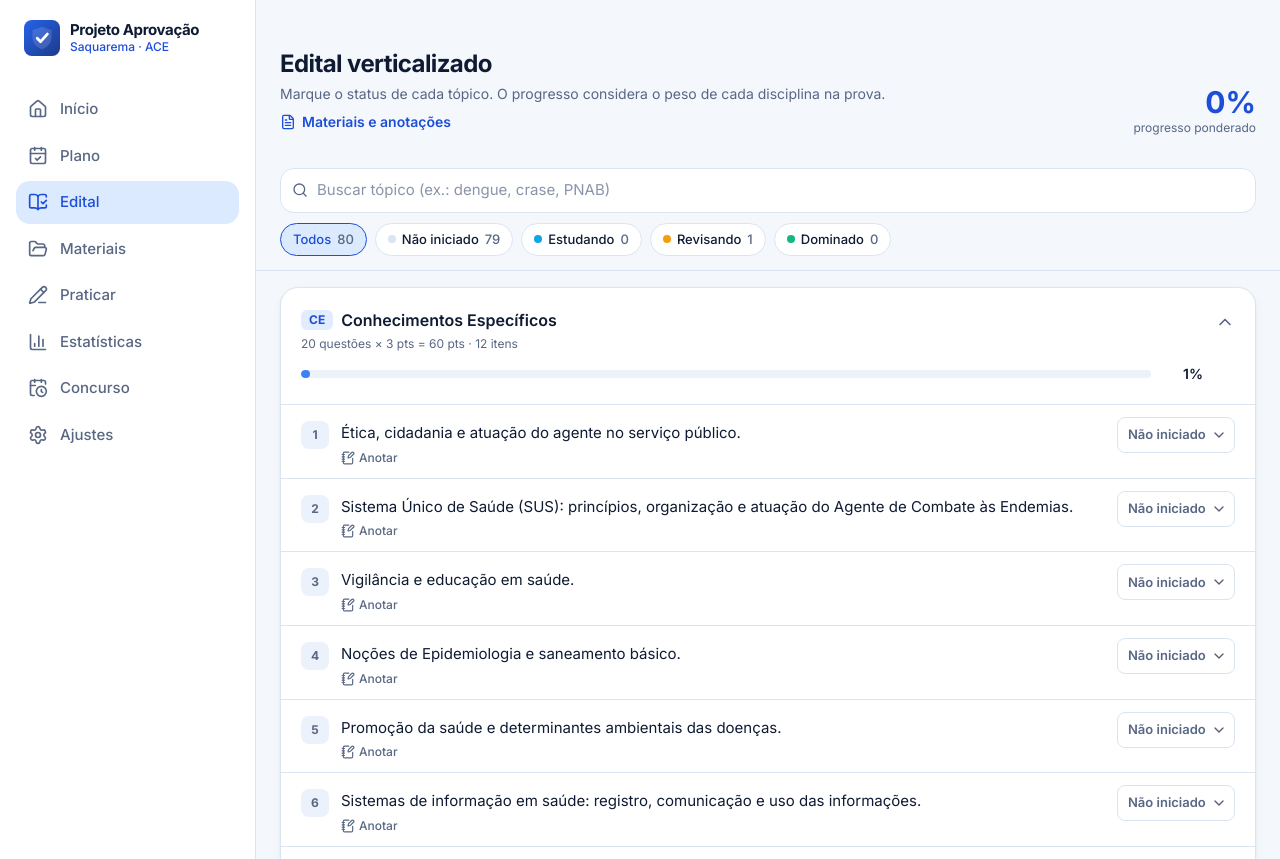
Test: edital verticalizado › filtra por status e mostra subitens das doenças
This screenshot has width=1280, height=859.
What coordinates should you click on to do the following:
click the button "Revisando 1"
I would click on:
 (708, 239)
Its box is [650,222,766,256].
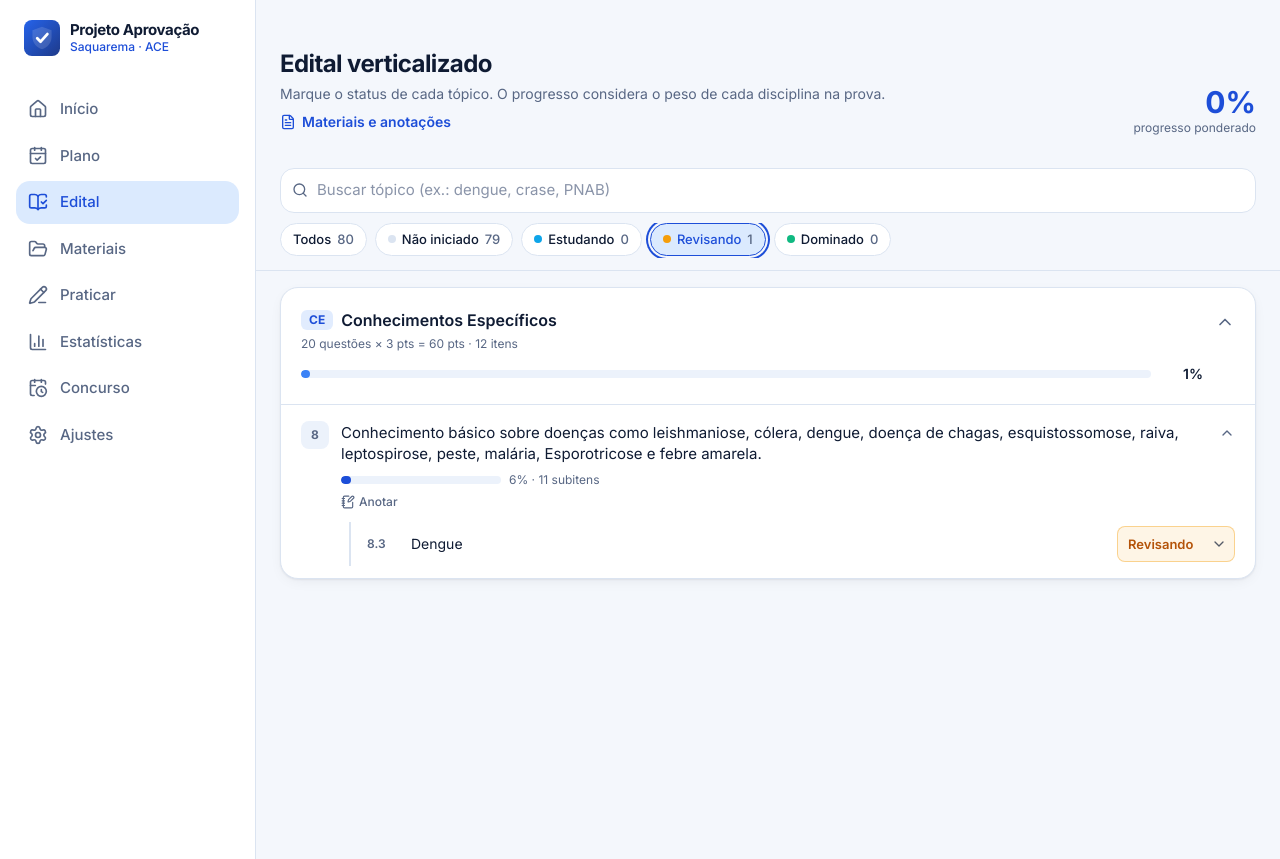
Expected: the dropdown named "Status: Dengue" shows "Revisando", [1117,526,1235,562]
